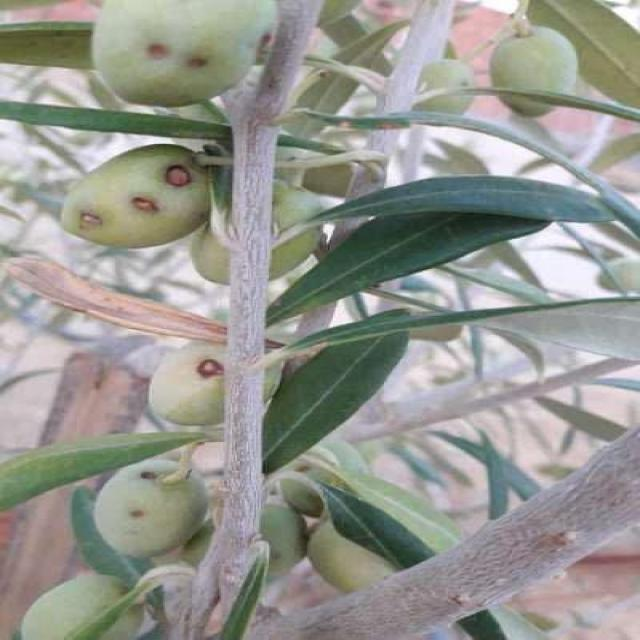Olive Fruit Fly: (93, 0, 277, 106), (61, 144, 210, 246), (93, 459, 206, 557)
